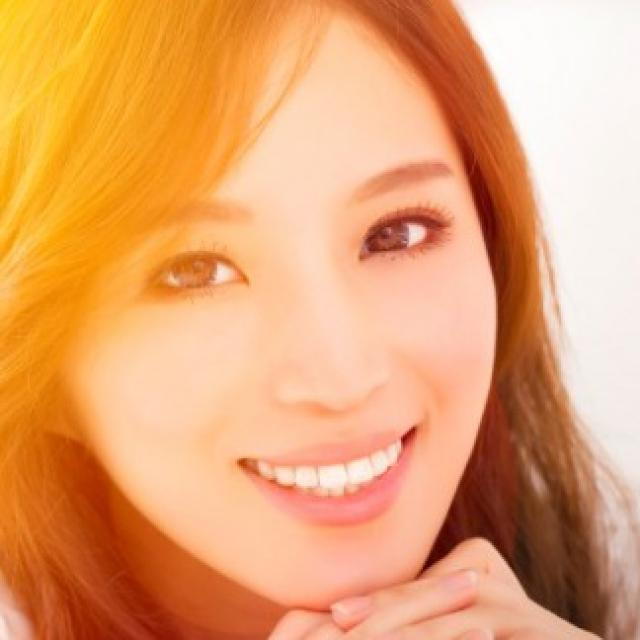Normal: (56, 8, 497, 611)
